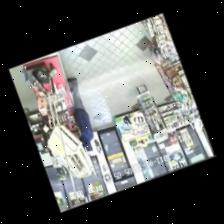person: (67, 77, 92, 151)
